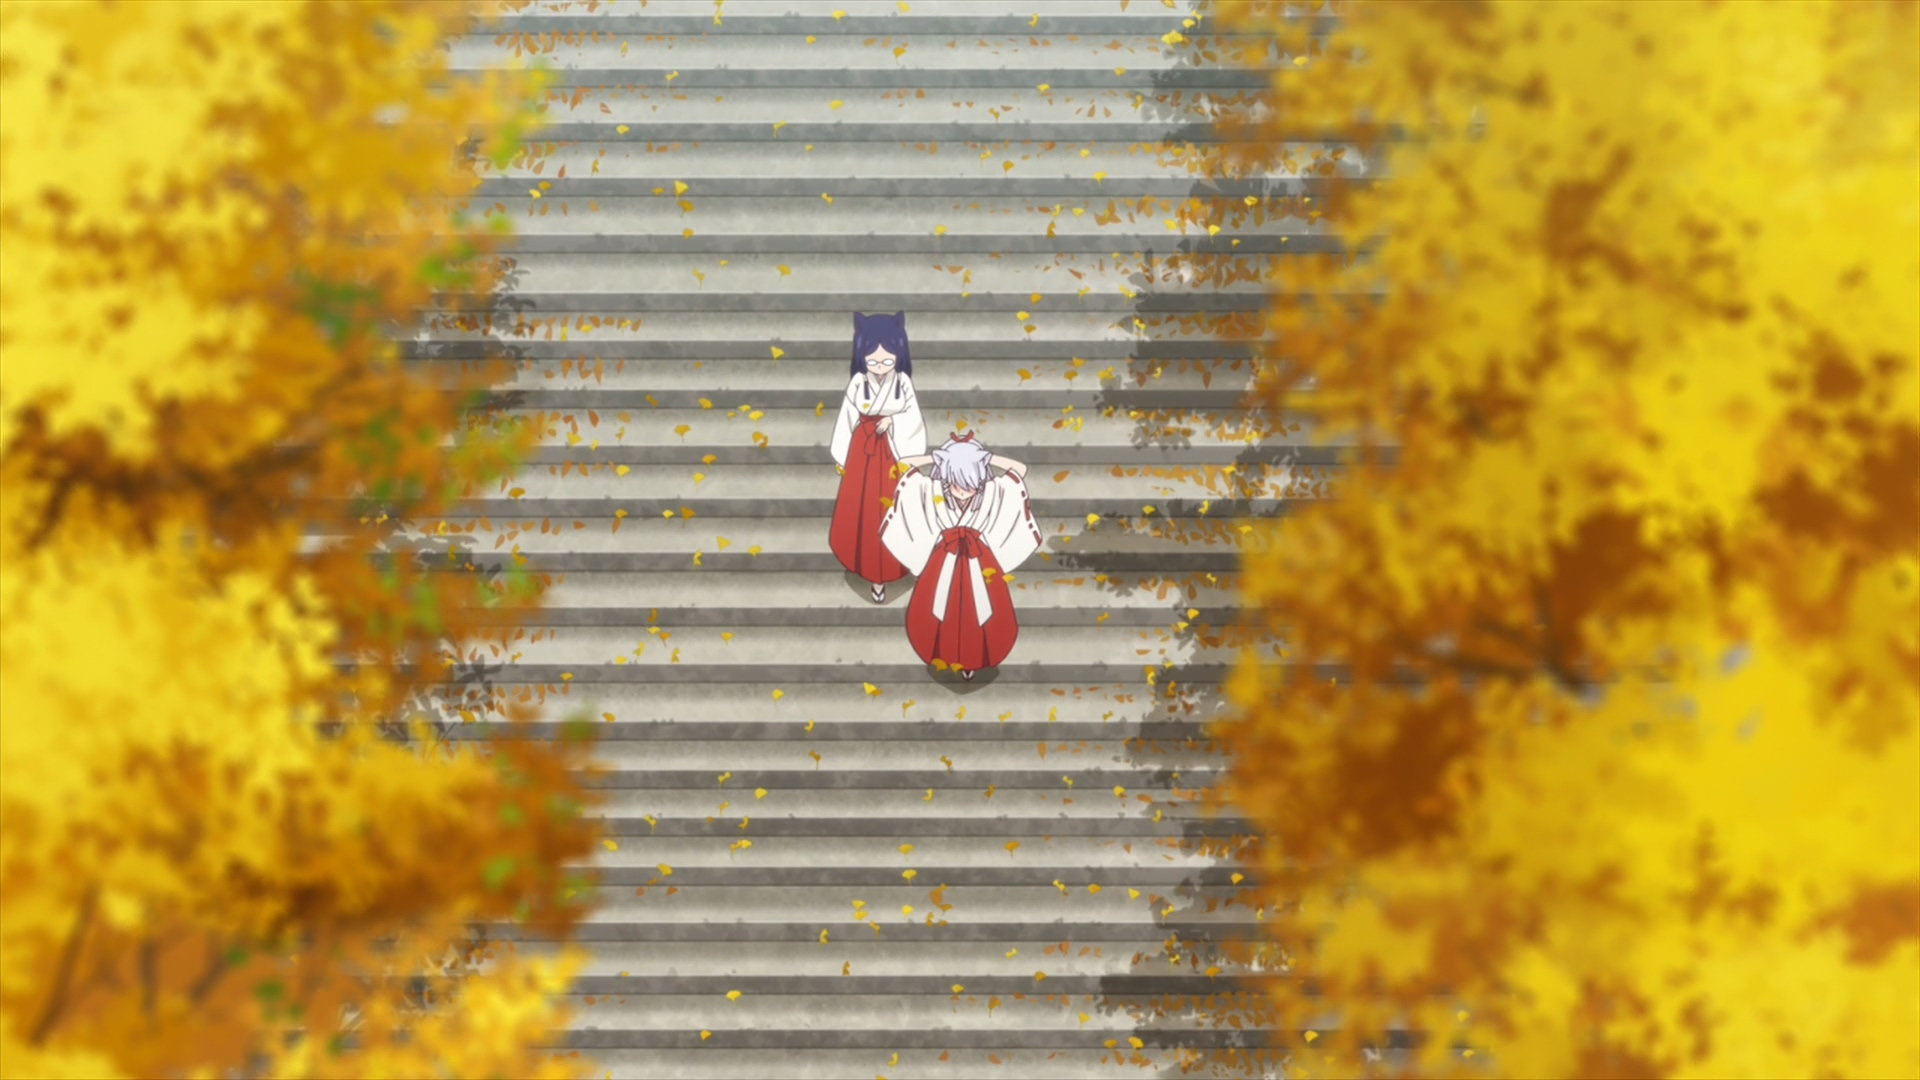柊: (881, 433, 1040, 682)
菖: (829, 309, 926, 601)
